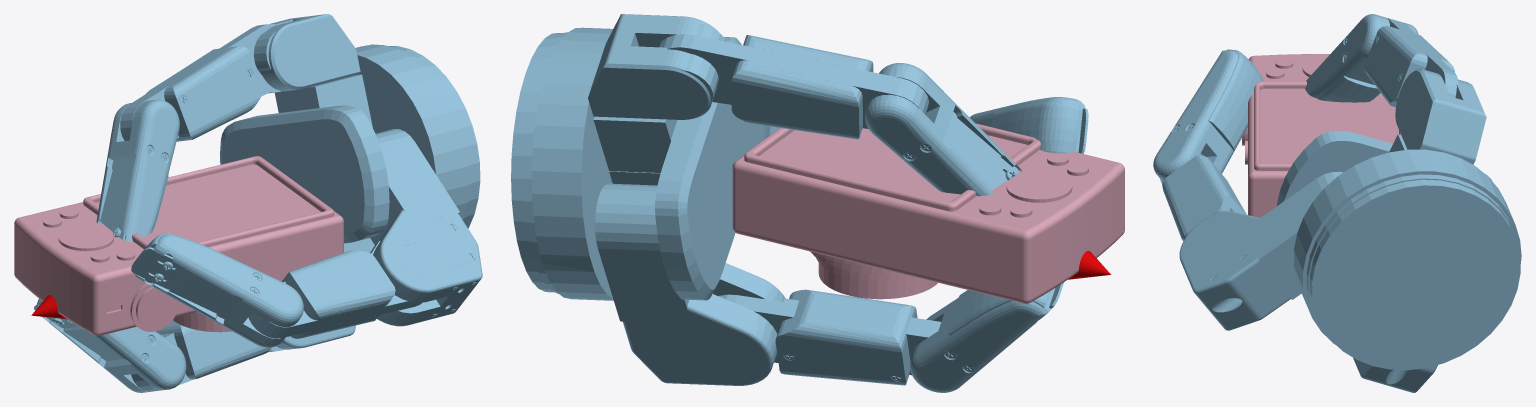
The picture shows the model from 3 angles, left to right: view 1: azimuth 30°, elevation 25°; view 2: azimuth 150°, elevation 25°; view 3: azimuth 270°, elevation 25°; orthographic projection. The views are drawn at different scales.
Visible parts, largest first — view 1: world, camera.stl; view 2: world, camera.stl; view 3: world, camera.stl.
Part boxes in pixels (x1,y1,x2,y2): world: (31, 14, 482, 392); camera.stl: (14, 156, 343, 335); world: (511, 14, 1110, 392); camera.stl: (732, 123, 1124, 303); world: (1153, 14, 1521, 392); camera.stl: (1242, 54, 1400, 217).
Bounding box in the file's own units: 0.2001 × 0.1361 × 0.1463.
